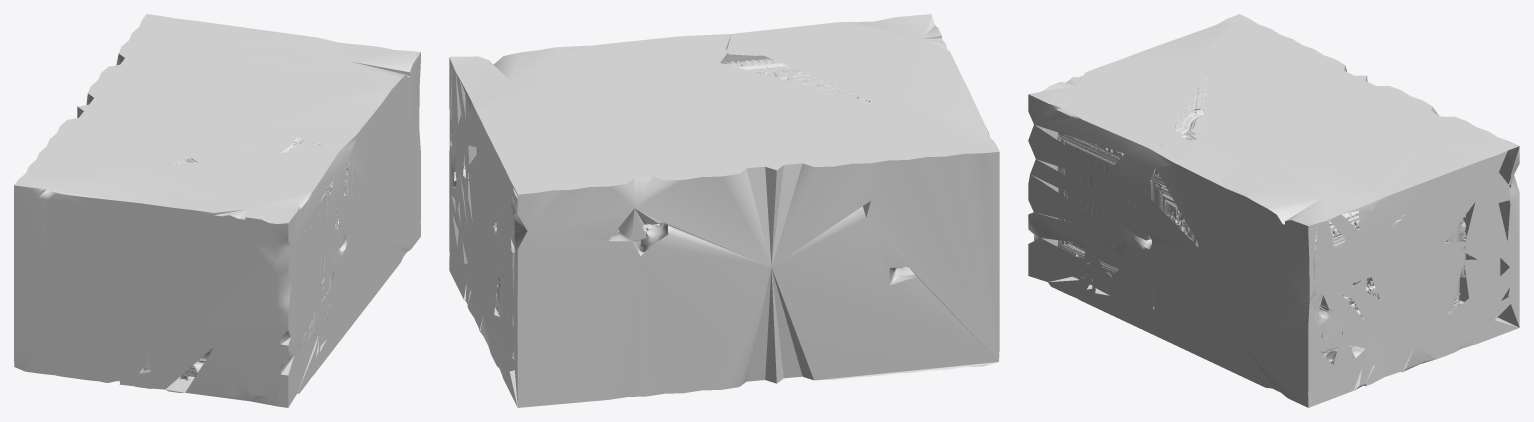
The picture shows the model from 3 angles, left to right: view 1: azimuth 30°, elevation 25°; view 2: azimuth 150°, elevation 25°; view 3: azimuth 270°, elevation 25°; orthographic projection. The views are drawn at different scales.
Parts seen in each view (by area): view 1: Object_2, Object_3, Object_5, Object_4, Object_6; view 2: Object_2, Object_11, Object_3, Object_9; view 3: Object_2, Object_3, Object_5, Object_7, Object_4, Object_6, Object_10, Object_11, Object_8, Object_13, Object_15.
Part boxes in pixels (left/top/right/bottom): Object_2: left=14, top=14, right=420, bottom=407; Object_3: left=199, top=135, right=368, bottom=348; Object_5: left=209, top=137, right=346, bottom=354; Object_4: left=226, top=138, right=361, bottom=336; Object_6: left=201, top=160, right=351, bottom=373; Object_2: left=449, top=14, right=999, bottom=407; Object_11: left=499, top=61, right=871, bottom=317; Object_3: left=451, top=64, right=657, bottom=226; Object_9: left=501, top=60, right=856, bottom=252; Object_2: left=1028, top=14, right=1519, bottom=407; Object_3: left=1058, top=114, right=1345, bottom=353; Object_5: left=1073, top=113, right=1414, bottom=362; Object_7: left=1057, top=114, right=1359, bottom=253; Object_4: left=1058, top=142, right=1390, bottom=385; Object_6: left=1057, top=151, right=1466, bottom=365; Object_10: left=1057, top=105, right=1460, bottom=356; Object_11: left=1078, top=80, right=1465, bottom=351; Object_8: left=1064, top=108, right=1469, bottom=352; Object_13: left=1079, top=78, right=1207, bottom=191; Object_15: left=1160, top=112, right=1458, bottom=308.
Bounding box in the file's own units: 14.29 × 5.71 × 13.99.
1 material, 1 textured.
